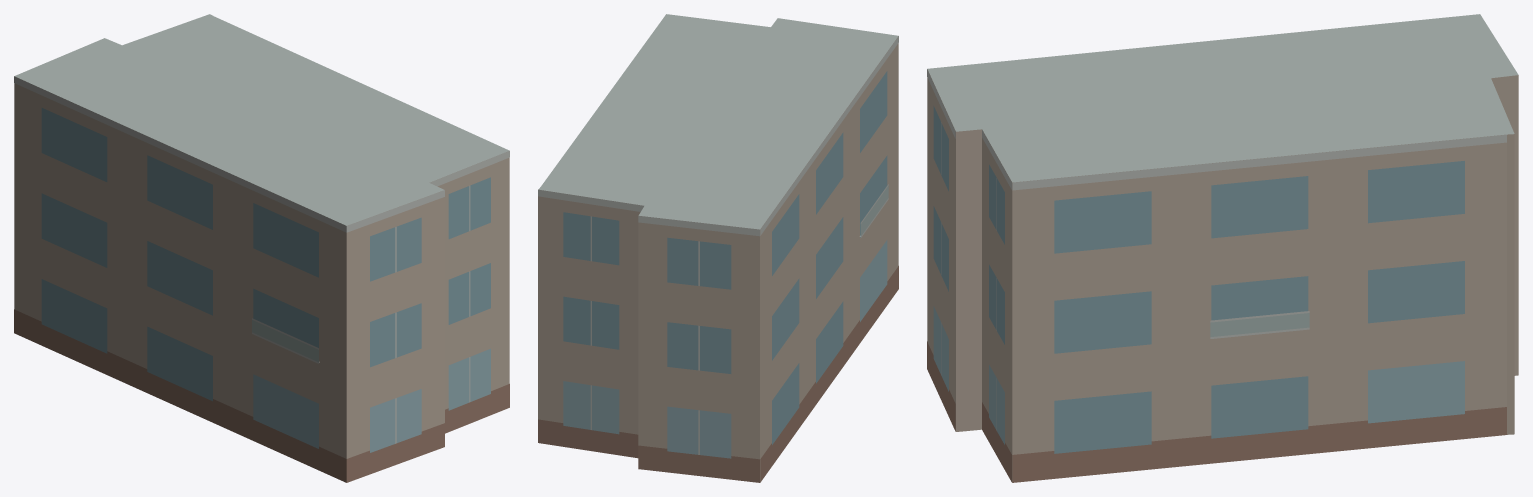
File: survey-upis-32617256.glb
3 renders of one model, left to right at view 1: azimuth 30°, elevation 25°; view 2: azimuth 150°, elevation 25°; view 3: azimuth 270°, elevation 25°, orthographic. The views are drawn at different scales.
Parts seen in each view (by area): view 1: survey-upis-32617256.tmp; view 2: survey-upis-32617256.tmp; view 3: survey-upis-32617256.tmp.
Boxes of the visible parts, <box> form: survey-upis-32617256.tmp: <box>14,14,509,482</box>; survey-upis-32617256.tmp: <box>538,14,898,482</box>; survey-upis-32617256.tmp: <box>927,14,1518,482</box>.
Size of the model in its own units: 11.02 by 9.15 by 16.34.
